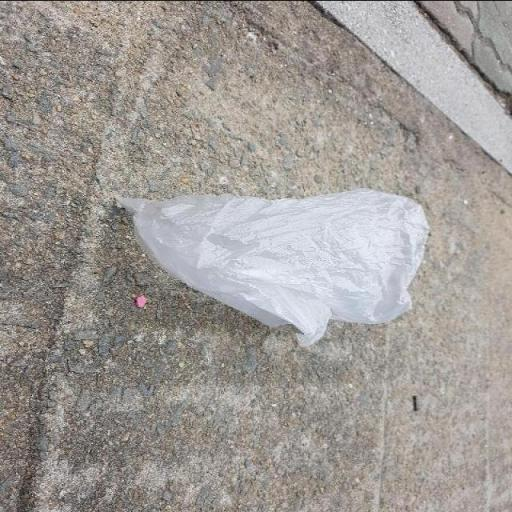plastic-bag: (118, 192, 430, 350)
